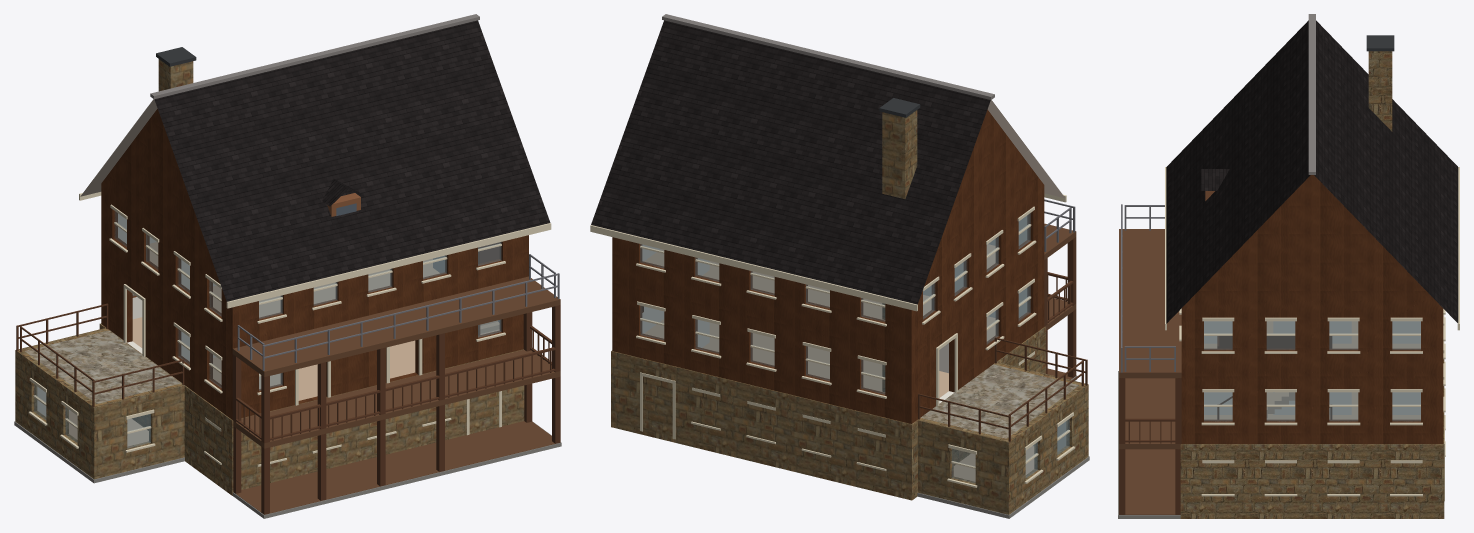
File: rw-timber-lodge.towns-v1.lod0.glb
The picture shows the model from 3 angles, left to right: view 1: azimuth 30°, elevation 25°; view 2: azimuth 150°, elevation 25°; view 3: azimuth 270°, elevation 25°; orthographic projection.
Visible parts, largest first — view 1: rw-timber-lodge; view 2: rw-timber-lodge; view 3: rw-timber-lodge.
Part boxes in pixels (left/top/right/bottom): rw-timber-lodge: left=14, top=14, right=561, bottom=518; rw-timber-lodge: left=590, top=14, right=1089, bottom=518; rw-timber-lodge: left=1118, top=14, right=1459, bottom=518.
Size of the model in its own units: 17.74 by 14.94 by 13.07.
Materials: 8 (4 with a texture image).
